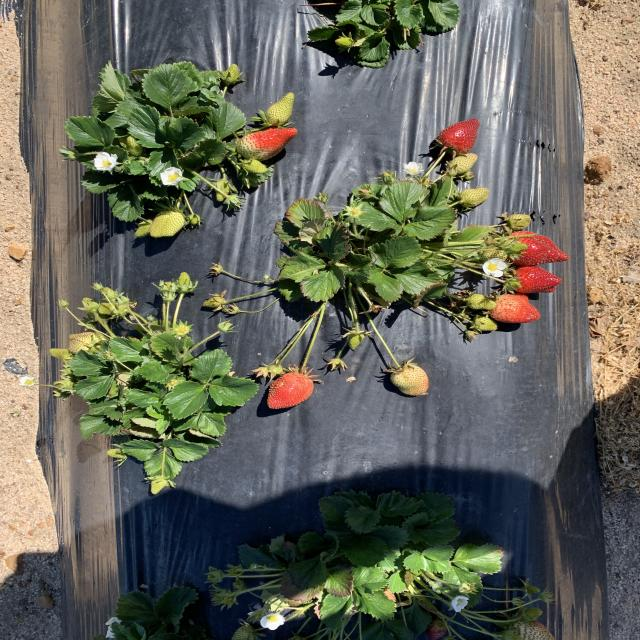unripe: (508, 230, 570, 264), (265, 370, 317, 410), (240, 127, 302, 160), (488, 292, 543, 324), (504, 266, 563, 293), (438, 116, 481, 150)
